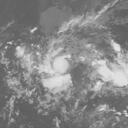cyclone: (7, 2, 111, 108)
